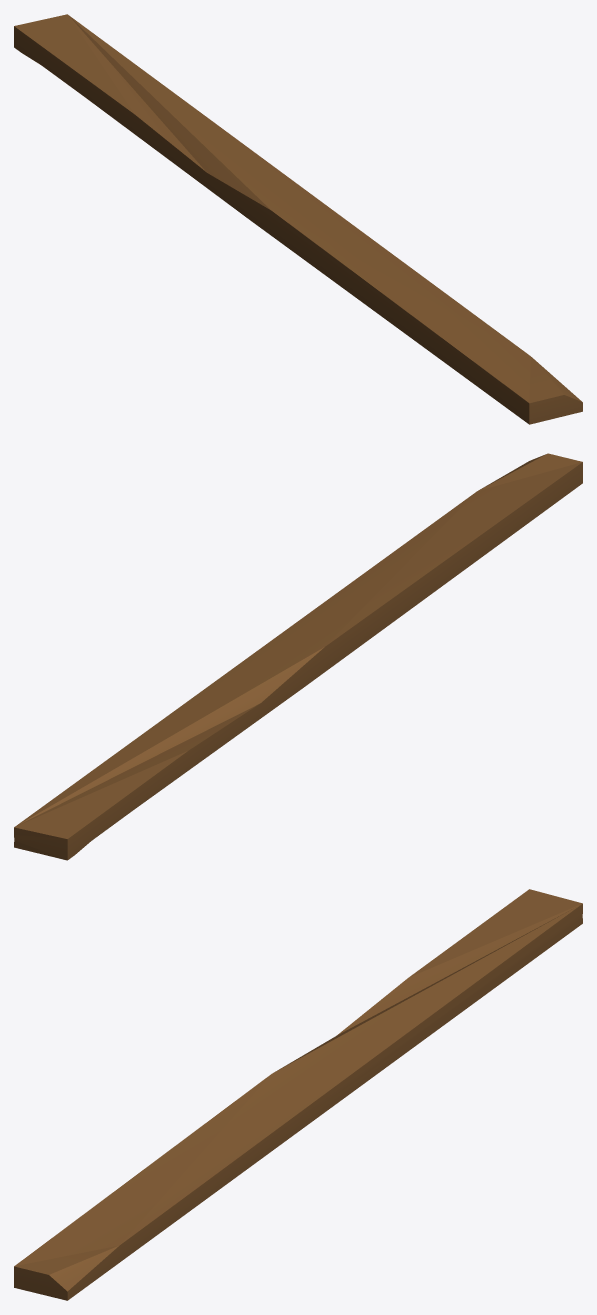
File: Prop_Plank_02.obj
The picture shows the model from 3 angles, top to bottom: view 1: azimuth 30°, elevation 25°; view 2: azimuth 150°, elevation 25°; view 3: azimuth 330°, elevation 25°; orthographic projection.
Visible parts, largest first — view 1: Prop_Plank_02; view 2: Prop_Plank_02; view 3: Prop_Plank_02.
Boxes of the visible parts, x1,y1,x2,y2 form: Prop_Plank_02: (14, 14, 582, 424); Prop_Plank_02: (14, 453, 582, 860); Prop_Plank_02: (14, 889, 582, 1300).
Bounding box in the file's own units: 0.2102 × 0.0948 × 3.5.
1 material, 1 textured.
